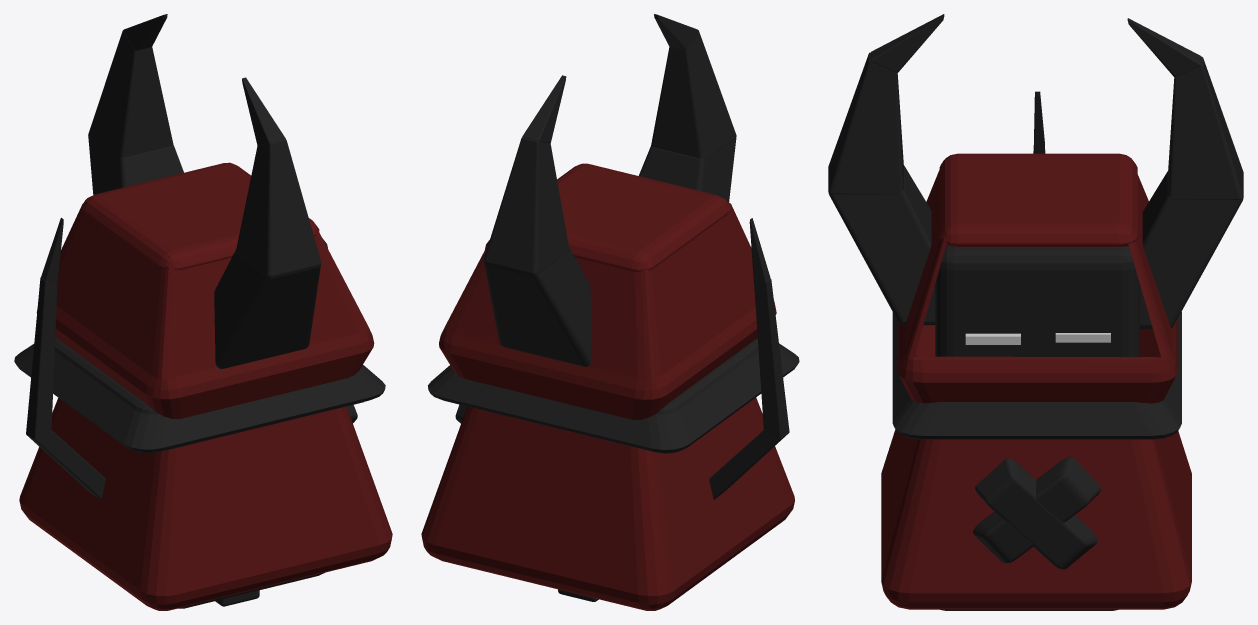
3 views of the same model, side by side, from view 1: azimuth 30°, elevation 25°; view 2: azimuth 150°, elevation 25°; view 3: azimuth 270°, elevation 25° (orthographic). The views are drawn at different scales.
Parts seen in each view (by area): view 1: Cube.081, Cube.094, Cube.092, Cube.095, Cube.085; view 2: Cube.081, Cube.095, Cube.092, Cube.094, Cube.085; view 3: Cube.081, glova, Cube.094, Cube.095, Cube.092, Cube.093, Cube.103, Cube.090, Cube.085, Cube.088.
Boxes of the visible parts, <box> form: Cube.081: <box>19,162,392,610</box>; Cube.094: <box>214,77,321,368</box>; Cube.092: <box>14,337,385,453</box>; Cube.095: <box>88,14,183,194</box>; Cube.085: <box>26,217,105,499</box>; Cube.081: <box>421,163,794,610</box>; Cube.095: <box>483,75,591,366</box>; Cube.092: <box>428,338,799,453</box>; Cube.094: <box>639,14,736,202</box>; Cube.085: <box>709,218,789,499</box>; Cube.081: <box>881,153,1191,609</box>; glova: <box>935,245,1139,356</box>; Cube.094: <box>828,14,944,325</box>; Cube.095: <box>1127,18,1243,328</box>; Cube.092: <box>892,311,1181,439</box>; Cube.093: <box>975,458,1097,569</box>; Cube.103: <box>973,456,1101,563</box>; Cube.090: <box>965,333,1020,344</box>; Cube.085: <box>1033,91,1045,153</box>; Cube.088: <box>1055,333,1110,342</box>.
Bounding box in the file's own units: 152 × 254 × 165.
